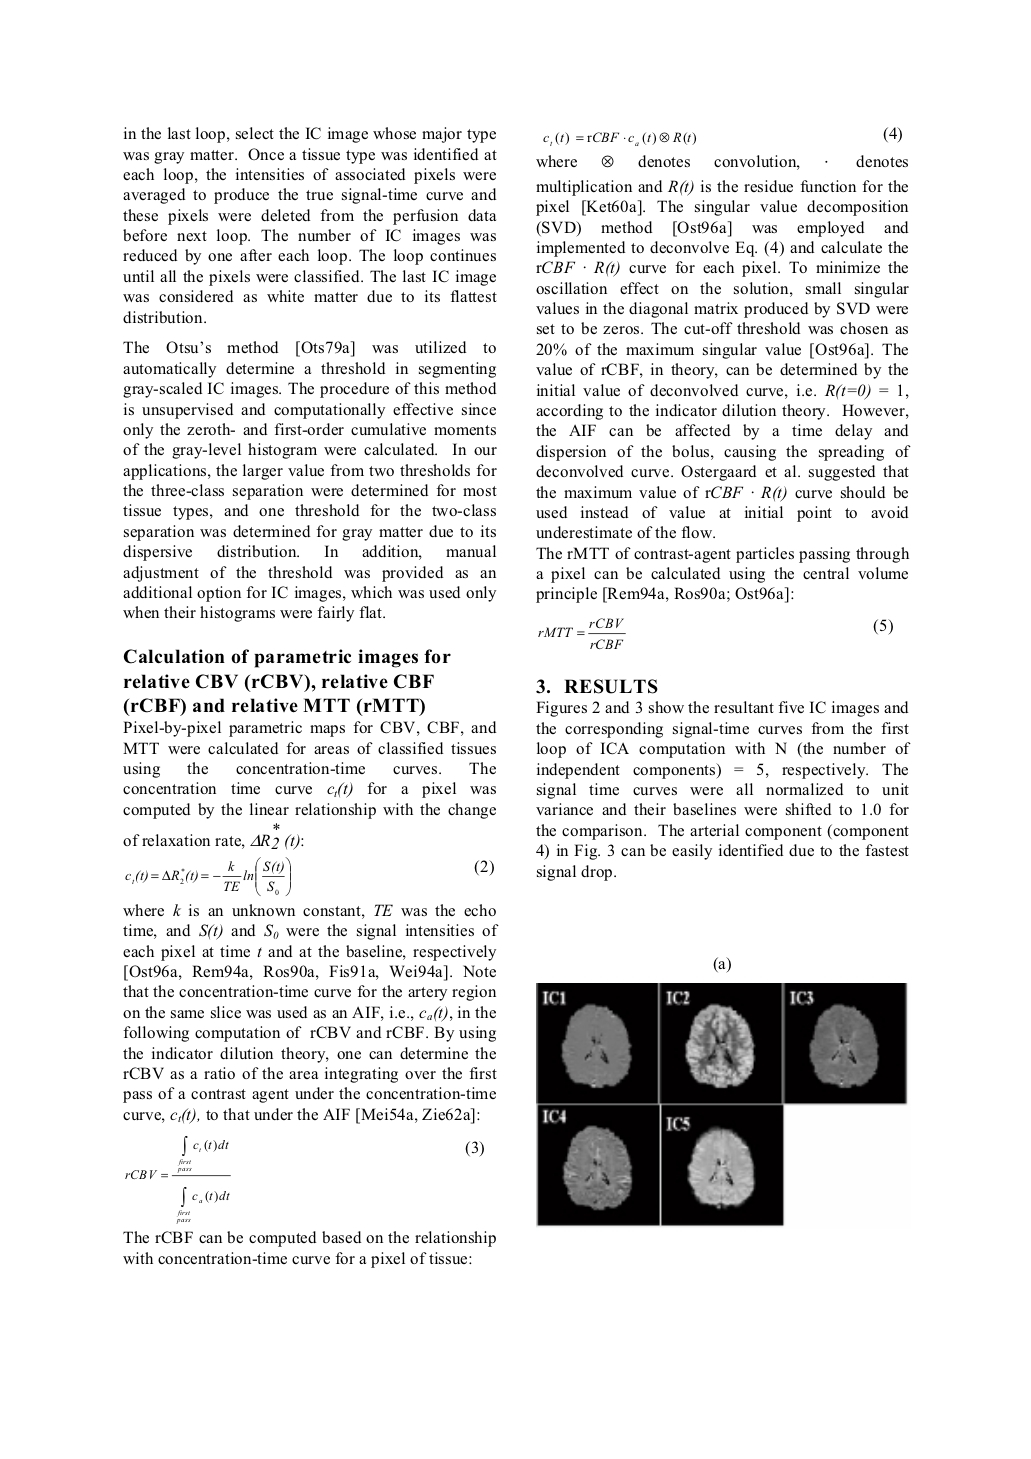figure: (536, 983, 659, 1104), (661, 983, 783, 1104), (786, 983, 907, 1105), (536, 1107, 661, 1226), (665, 1107, 784, 1226)
formula: (125, 1136, 483, 1223), (125, 856, 493, 896), (538, 617, 892, 650), (543, 126, 900, 146)
